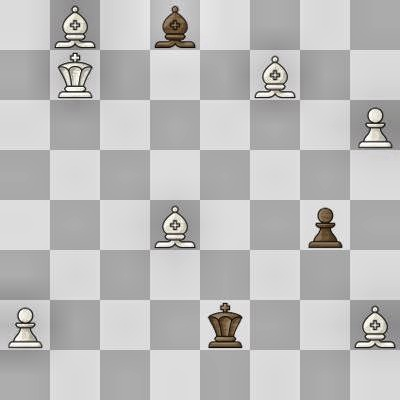black-bishop: (150, 0, 200, 50)
black-king: (200, 300, 250, 350)
black-pawn: (300, 200, 350, 250)
white-bishop: (50, 0, 100, 50), (250, 50, 300, 100), (150, 200, 200, 250), (350, 300, 400, 350)
white-king: (50, 50, 100, 100)
white-pawn: (350, 100, 400, 150), (0, 300, 50, 350)
